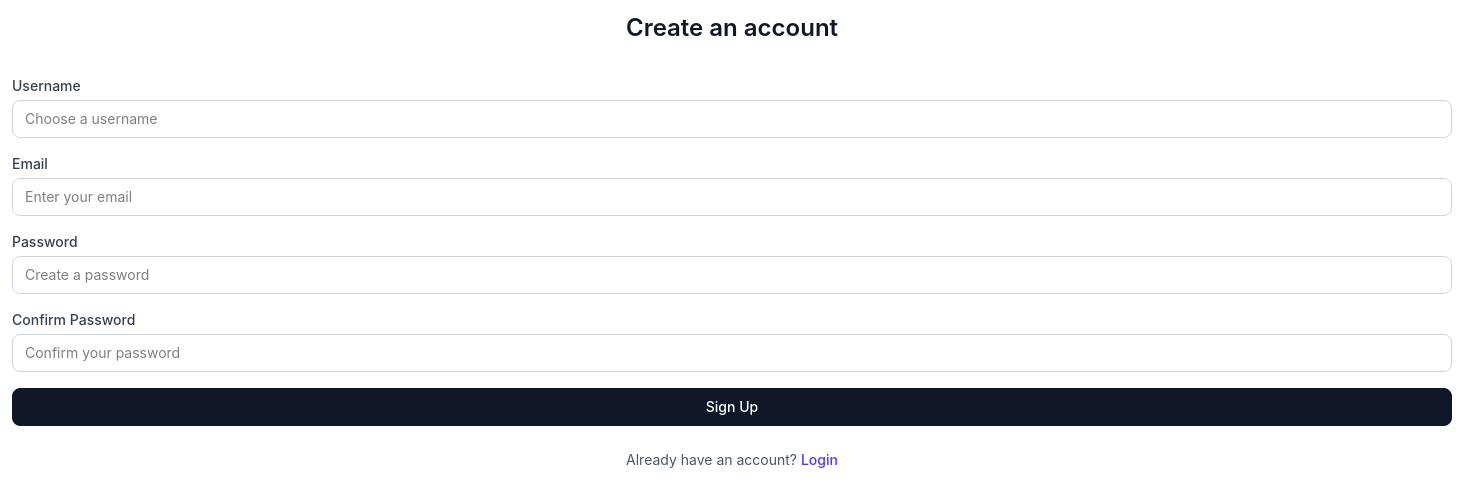
Test: SignupPage › shows check email message after successful signup
Type "newuser" into the field labelled "Username" at (732, 119), box [12, 100, 1452, 138]
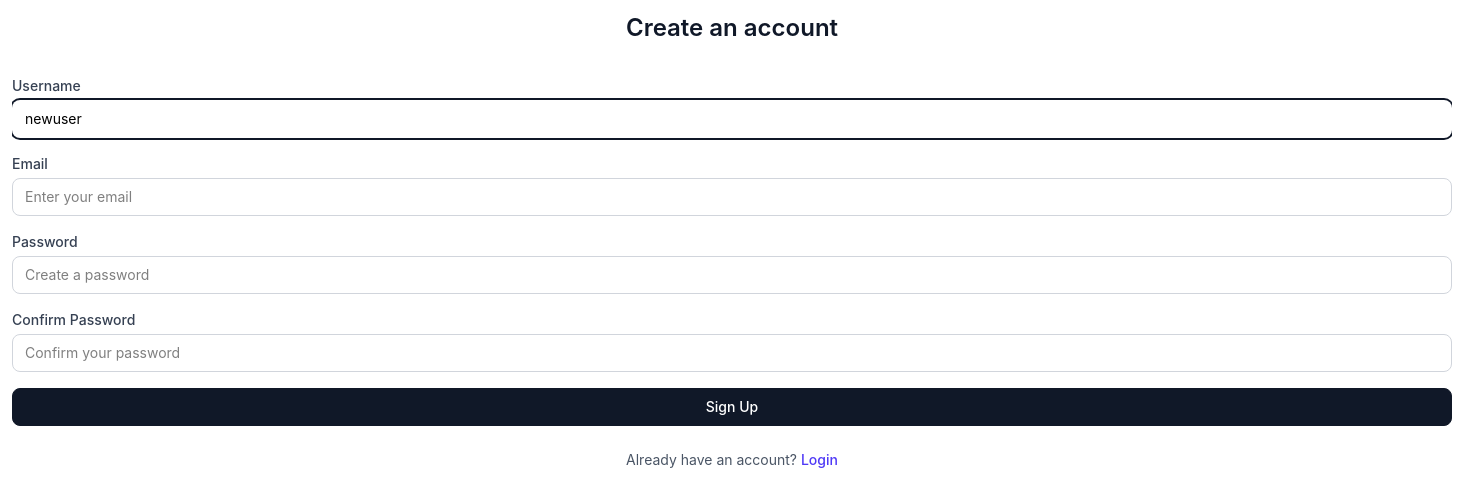
Type "new@example.com" into the field labelled "Email" at (732, 197), box [12, 178, 1452, 216]
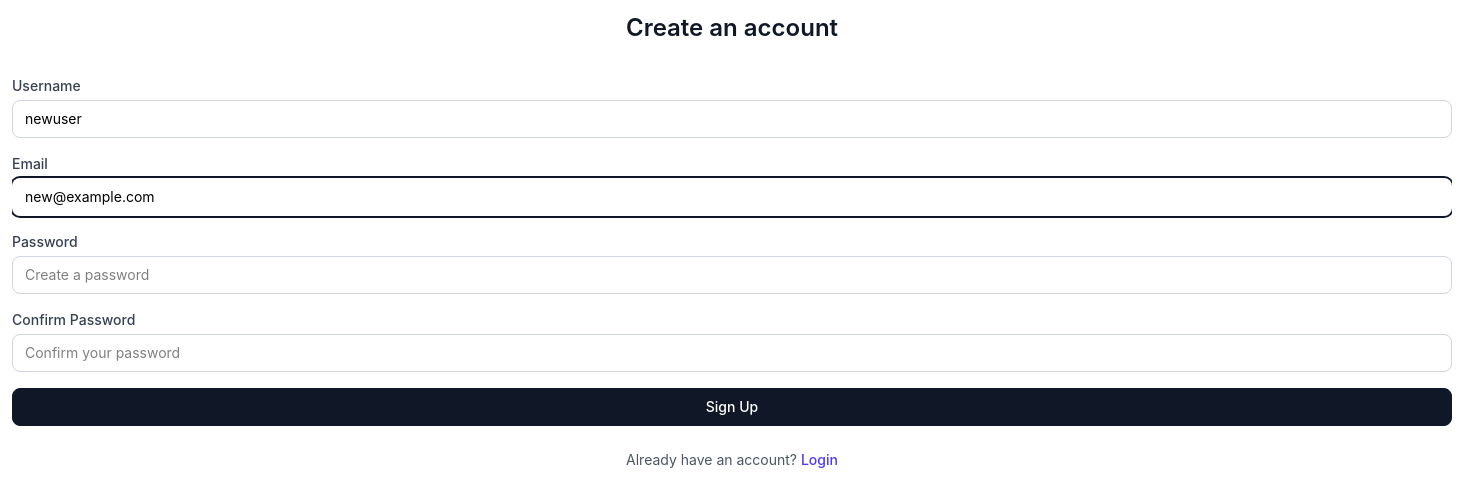
Type "StrongPass123!" into the password field labelled "Password" at (732, 275), box [12, 256, 1452, 294]
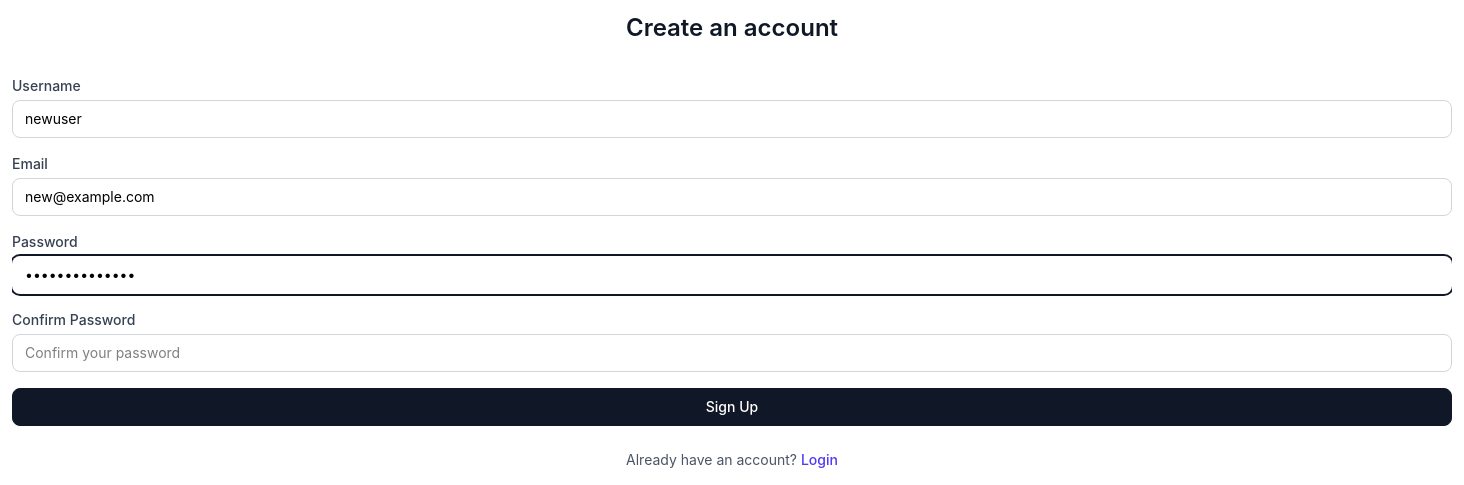
Type "StrongPass123!" into the password field labelled "Confirm Password" at (732, 353), box [12, 334, 1452, 372]
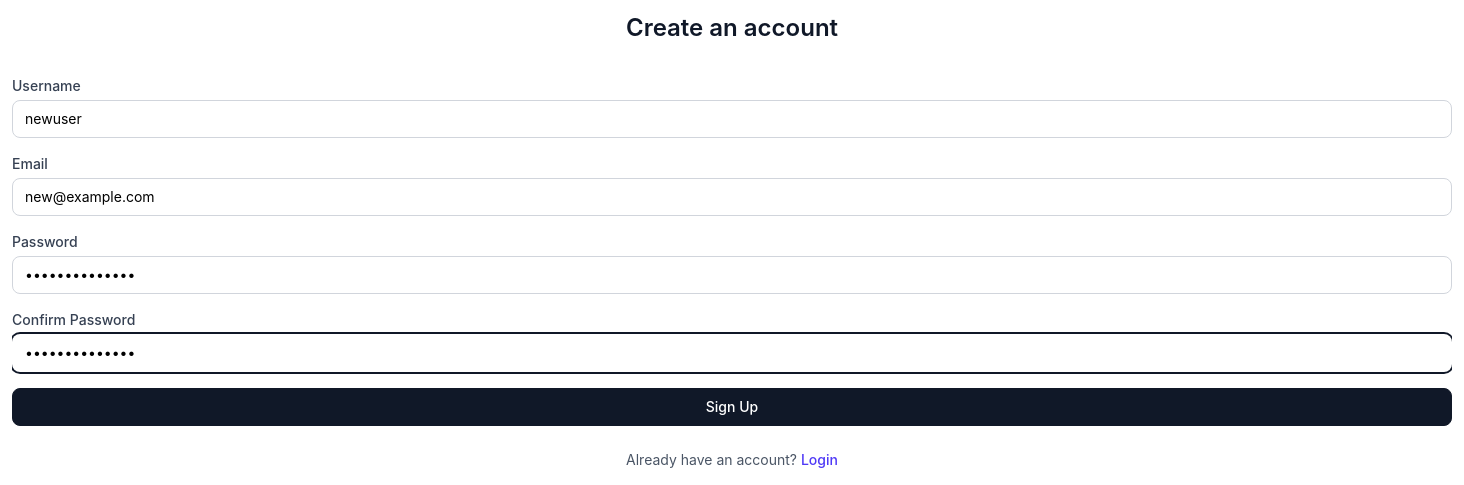
Click the button "Sign Up" at (732, 407), box [12, 388, 1452, 426]
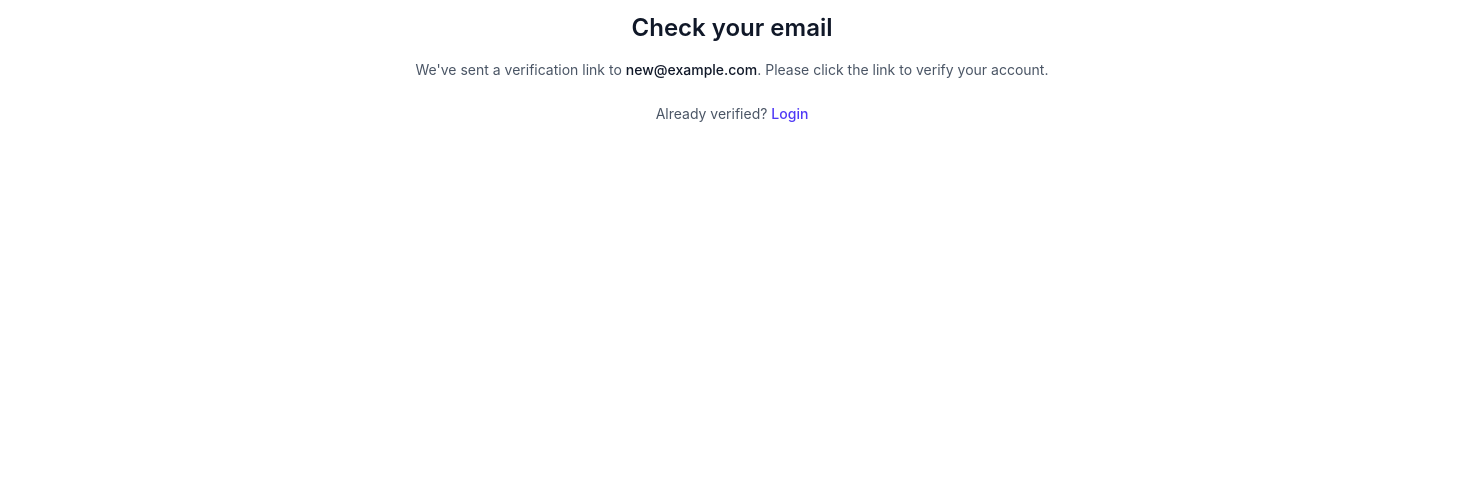
Check: the heading "Check your email" is shown, box [632, 13, 832, 42]
Check: the text "new@example.com" is shown, box [626, 61, 757, 78]
